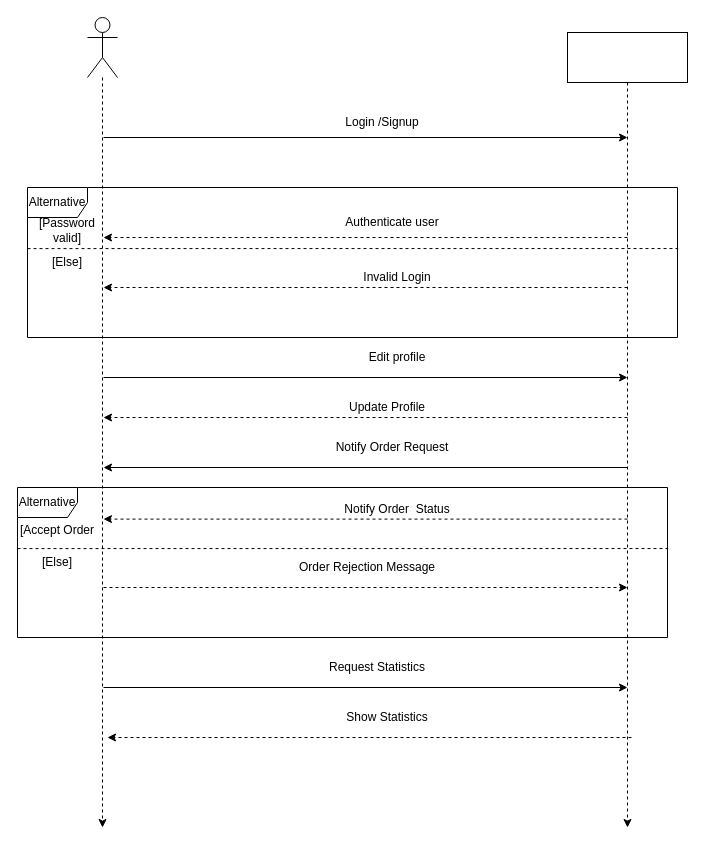
This 705x853 diagram has some shape labels left out. The shapes that lost their labels are listed below. From the top down, each one's centre as x and y in pixels, then its label:
At pixel 102 47: "ServiceProvider".
At pixel 627 57: "System".
